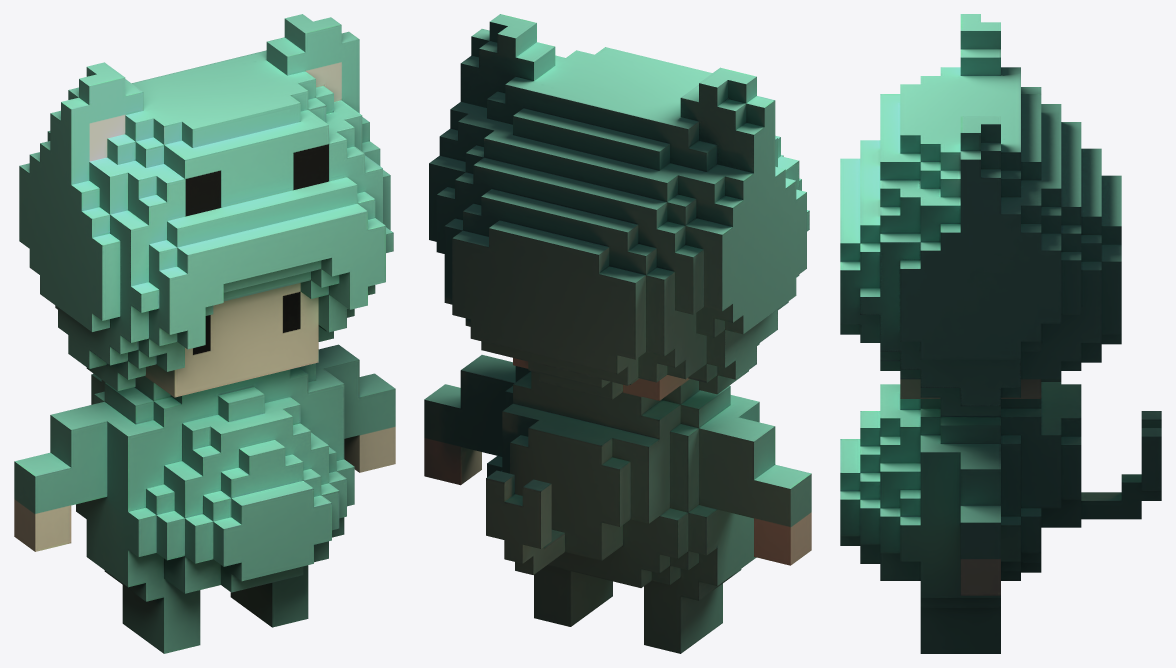
File: hippo_001.glb
3 views of the same model, side by side, from view 1: azimuth 30°, elevation 25°; view 2: azimuth 150°, elevation 25°; view 3: azimuth 270°, elevation 25° (orthographic). The views are drawn at different scales.
Parts seen in each view (by area): view 1: hippo_001_04; view 2: hippo_001_04; view 3: hippo_001_04.
Part boxes in pixels (x1=…): hippo_001_04: x1=14, y1=14, x2=395, y2=653; hippo_001_04: x1=424, y1=14, x2=811, y2=653; hippo_001_04: x1=840, y1=14, x2=1161, y2=653.
Size of the model in its own units: 4.97 by 7.46 by 3.98.
Materials: 1 (1 with a texture image).
